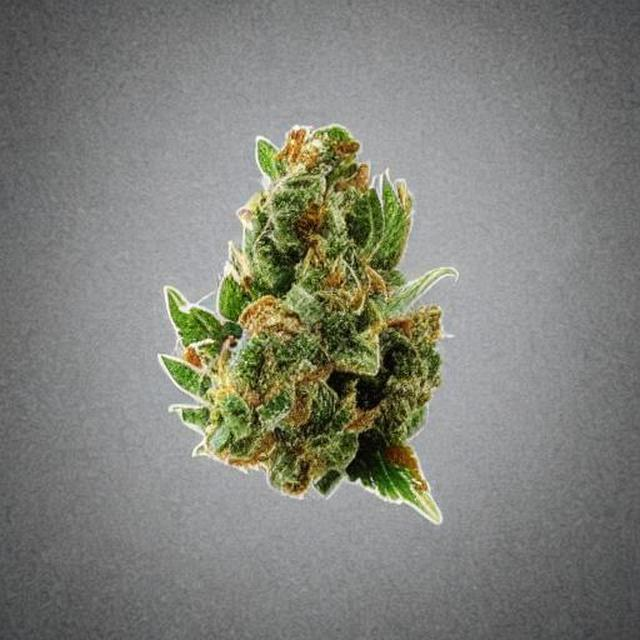Marijuana Plant: (131, 112, 486, 493)
